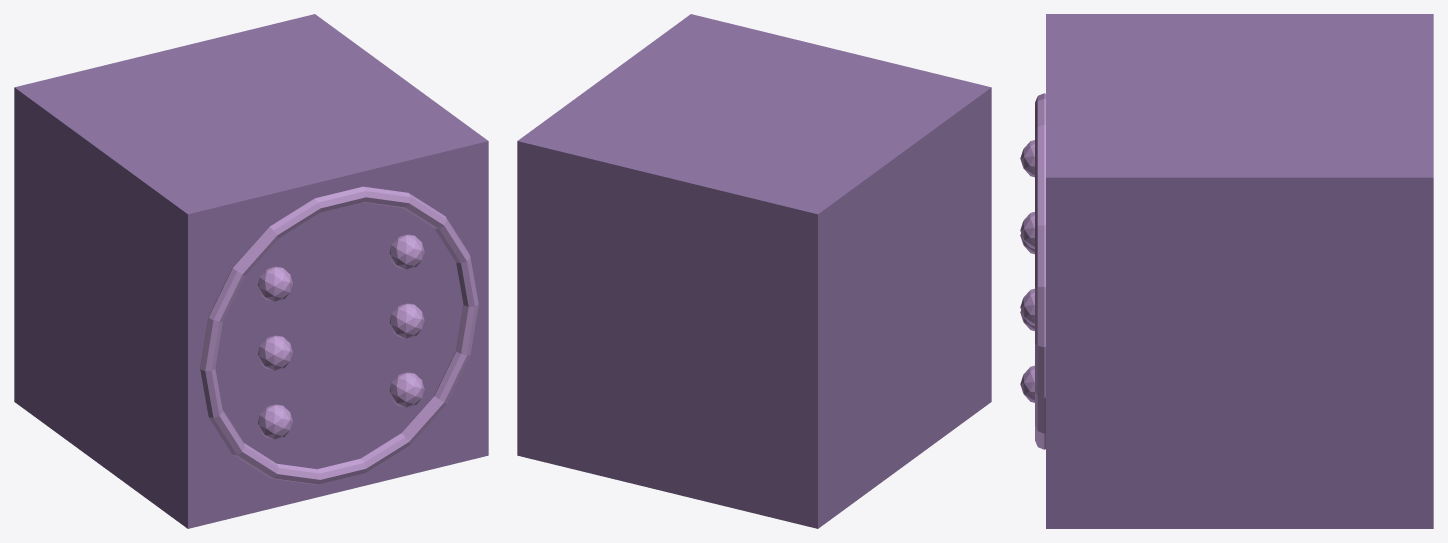
File: fluch.glb
3 views of the same model, side by side, from view 1: azimuth 30°, elevation 25°; view 2: azimuth 150°, elevation 25°; view 3: azimuth 270°, elevation 25° (orthographic). The views are drawn at different scales.
Visible parts, largest first — view 1: world; view 2: world; view 3: world.
Part boxes in pixels (x1,y1,x2,y2): world: [14, 14, 488, 528]; world: [517, 14, 991, 528]; world: [1020, 14, 1433, 528].
Bounding box in the file's own units: 1.05 × 1.05 × 1.12.
